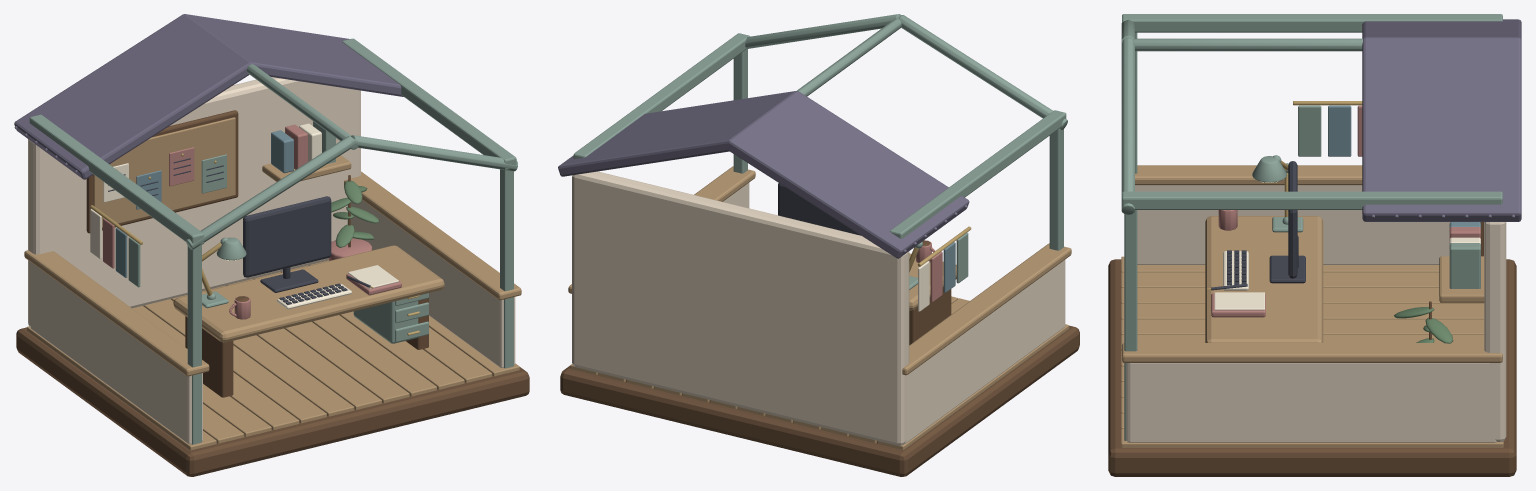
Rendered from little-studio.glb.
3 renders of one model, left to right at view 1: azimuth 30°, elevation 25°; view 2: azimuth 150°, elevation 25°; view 3: azimuth 270°, elevation 25°, orthographic. The views are drawn at different scales.
Visible parts, largest first — view 1: Studio_Oak, Studio_Plaster, Studio_Slate, Studio_Sage, Studio_Walnut, Studio_Ink, Studio_Rose, Studio_Paper, Studio_Blue, Studio_Leaf, Studio_Brass; view 2: Studio_Plaster, Studio_Slate, Studio_Walnut, Studio_Sage, Studio_Oak, Studio_Ink, Studio_Rose, Studio_Blue, Studio_Paper; view 3: Studio_Plaster, Studio_Oak, Studio_Slate, Studio_Sage, Studio_Walnut, Studio_Ink, Studio_Paper, Studio_Rose, Studio_Blue, Studio_Leaf, Studio_Brass.
Boxes of the visible parts, left/top/right/bottom form: Studio_Oak: left=24, top=117, right=521, bottom=450; Studio_Plaster: left=28, top=77, right=515, bottom=444; Studio_Slate: left=14, top=14, right=403, bottom=179; Studio_Sage: left=29, top=38, right=517, bottom=444; Studio_Walnut: left=16, top=110, right=529, bottom=476; Studio_Ink: left=108, top=158, right=370, bottom=304; Studio_Rose: left=103, top=124, right=401, bottom=319; Studio_Paper: left=90, top=123, right=398, bottom=309; Studio_Blue: left=115, top=130, right=293, bottom=277; Studio_Leaf: left=331, top=180, right=379, bottom=247; Studio_Brass: left=90, top=153, right=419, bottom=335; Studio_Plaster: left=572, top=171, right=1065, bottom=445; Studio_Slate: left=558, top=91, right=969, bottom=258; Studio_Walnut: left=560, top=240, right=1079, bottom=476; Studio_Sage: left=573, top=14, right=1067, bottom=289; Studio_Oak: left=568, top=166, right=1071, bottom=449; Studio_Ink: left=778, top=183, right=860, bottom=235; Studio_Rose: left=916, top=241, right=942, bottom=302; Studio_Blue: left=943, top=242, right=955, bottom=292; Studio_Paper: left=918, top=261, right=929, bottom=311; Studio_Plaster: left=1126, top=185, right=1506, bottom=442; Studio_Oak: left=1121, top=165, right=1503, bottom=447; Studio_Slate: left=1362, top=19, right=1521, bottom=221; Studio_Sage: left=1121, top=14, right=1502, bottom=440; Studio_Walnut: left=1108, top=210, right=1516, bottom=476; Studio_Ink: left=1211, top=161, right=1305, bottom=290; Studio_Paper: left=1214, top=237, right=1480, bottom=310; Studio_Rose: left=1211, top=105, right=1480, bottom=317; Studio_Blue: left=1328, top=105, right=1480, bottom=228; Studio_Leaf: left=1394, top=307, right=1453, bottom=343; Studio_Brass: left=1206, top=101, right=1362, bottom=289.
Size of the model in its own units: 3.57 by 2.94 by 3.19.
